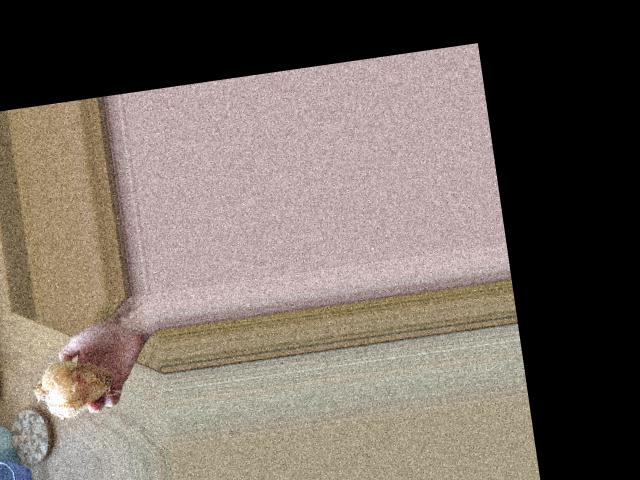onion: (33, 353, 120, 424)
